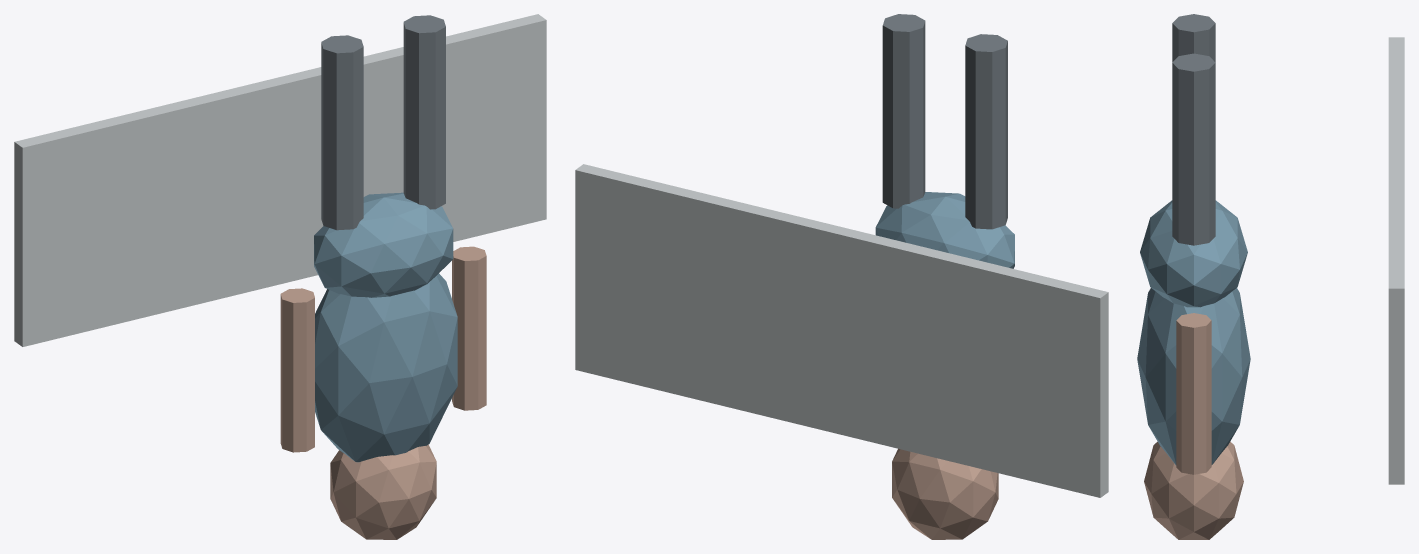
Rendered from dorsal-low.glb.
3 views of the same model, side by side, from view 1: azimuth 30°, elevation 25°; view 2: azimuth 150°, elevation 25°; view 3: azimuth 270°, elevation 25° (orthographic).
Visible parts, largest first — view 1: reference_surface, torso, pelvis, left_leg, right_leg, head, left_arm, right_arm; view 2: reference_surface, right_leg, left_leg, head, pelvis; view 3: torso, right_leg, reference_surface, pelvis, head, right_arm, left_leg.
Part boxes in pixels (<box>): reference_surface: <box>14,14,546,346</box>; torso: <box>315,273,457,462</box>; pelvis: <box>314,192,453,297</box>; left_leg: <box>321,35,363,230</box>; right_leg: <box>403,15,445,209</box>; head: <box>330,444,436,539</box>; left_arm: <box>280,288,314,452</box>; right_arm: <box>452,246,486,410</box>; reference_surface: <box>575,164,1108,497</box>; right_leg: <box>882,14,925,208</box>; left_leg: <box>965,34,1007,229</box>; head: <box>892,448,998,539</box>; pelvis: <box>875,192,1014,268</box>; torso: <box>1137,288,1250,465</box>; right_leg: <box>1172,53,1215,245</box>; reference_surface: <box>1388,37,1404,484</box>; pelvis: <box>1140,200,1247,307</box>; head: <box>1144,441,1243,539</box>; right_arm: <box>1176,313,1211,474</box>; left_leg: <box>1172,14,1215,62</box>.
Size of the model in its own units: 4.4 by 4.05 by 1.98.
